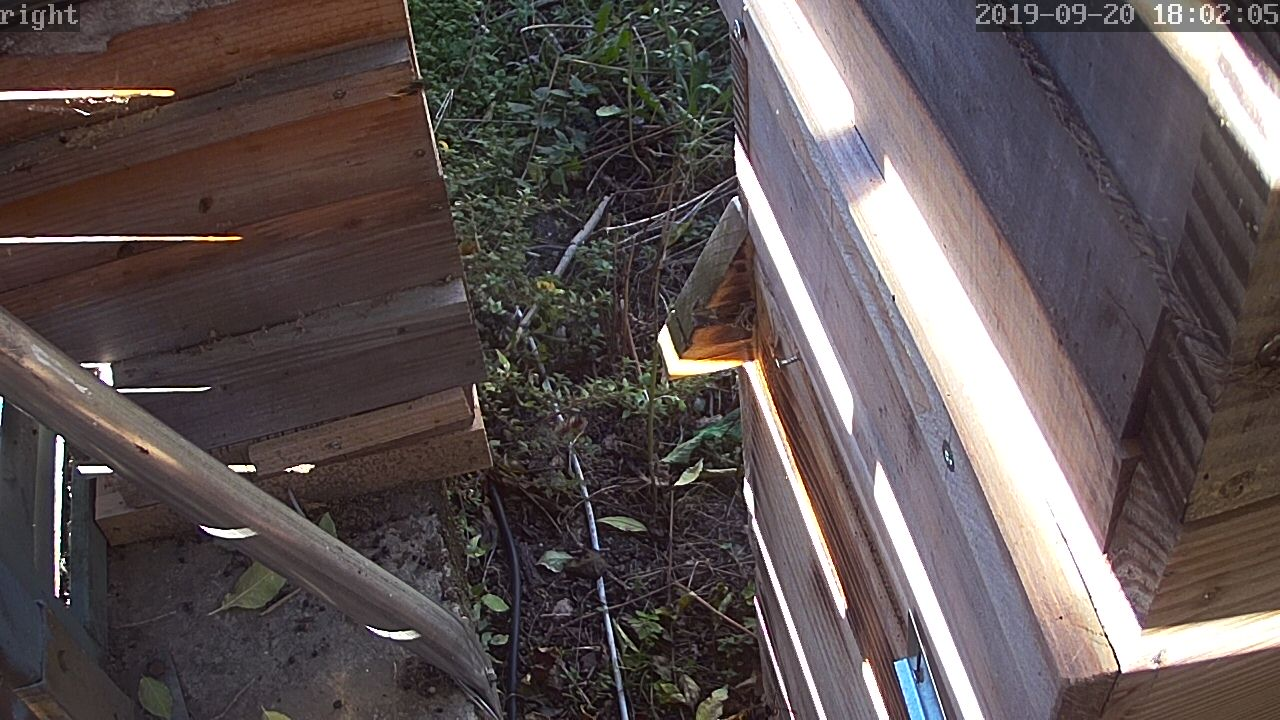hornet: (41, 13, 1249, 720)
